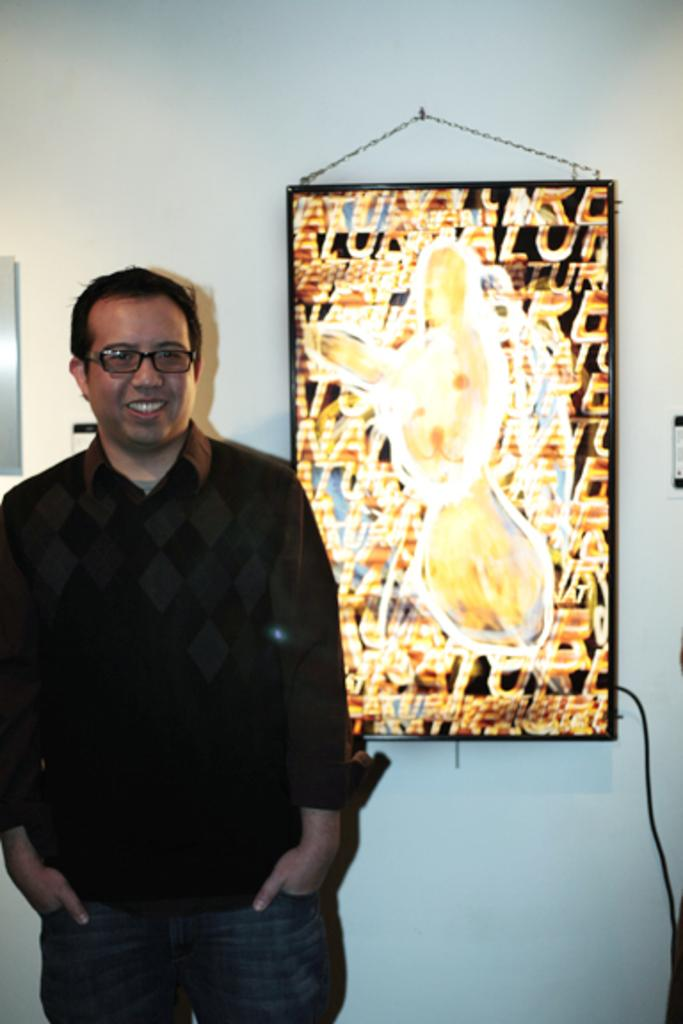Sem Máscara: (87, 298, 192, 434)
